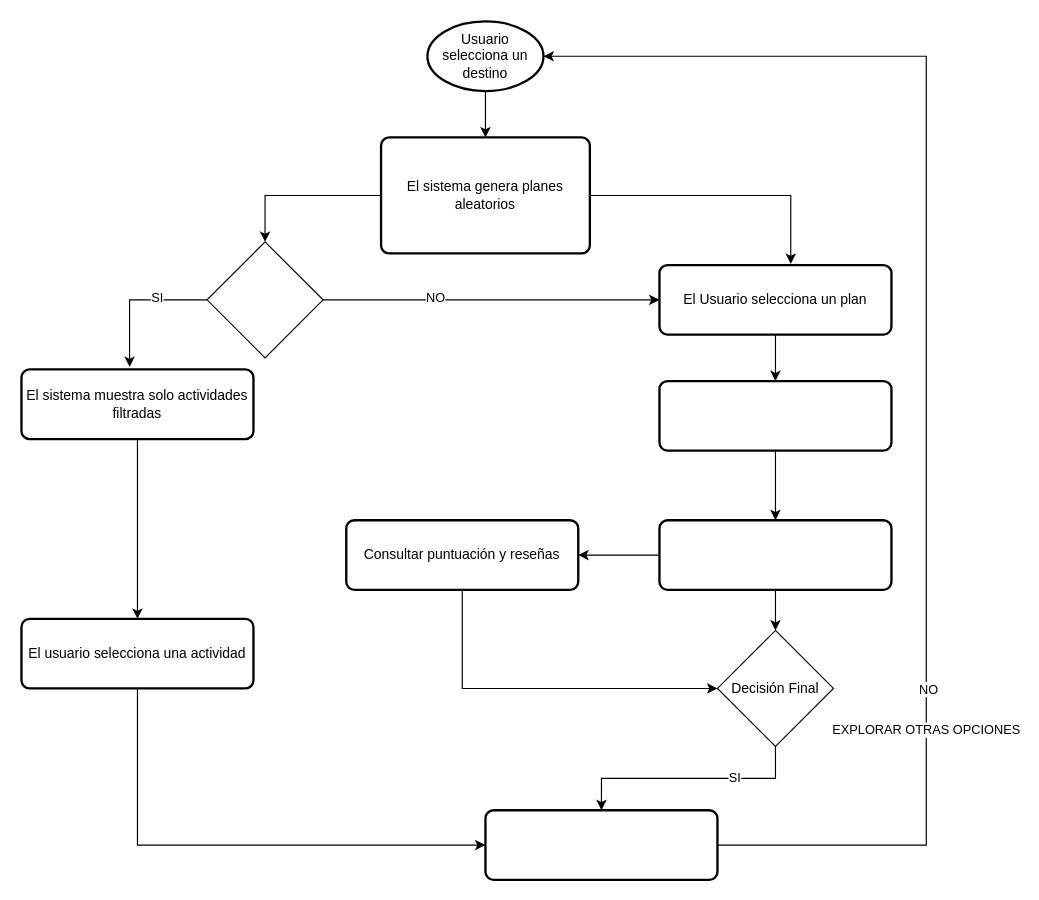
Some shapes in this 1039 by 900 pixel diagram are drawn without their labels. The centre of each missing label's shape, as x and y in pixels:
Consultar horario y precio de actividades: pixel 775 554
El sistema muestra detalles de la actividad seleccionada: pixel 601 844
El Sistema muestra detalles del plan y mapas: pixel 775 415
Filtrar ??(opcional): pixel 264 299
